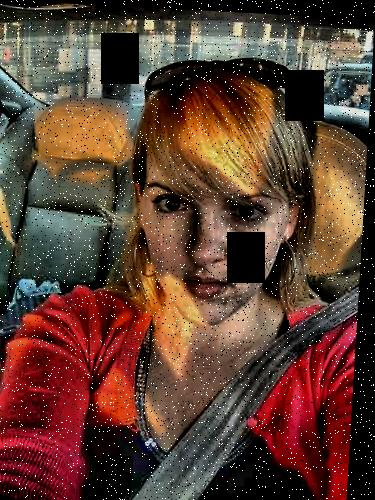seatbelt: (119, 275, 339, 500)
